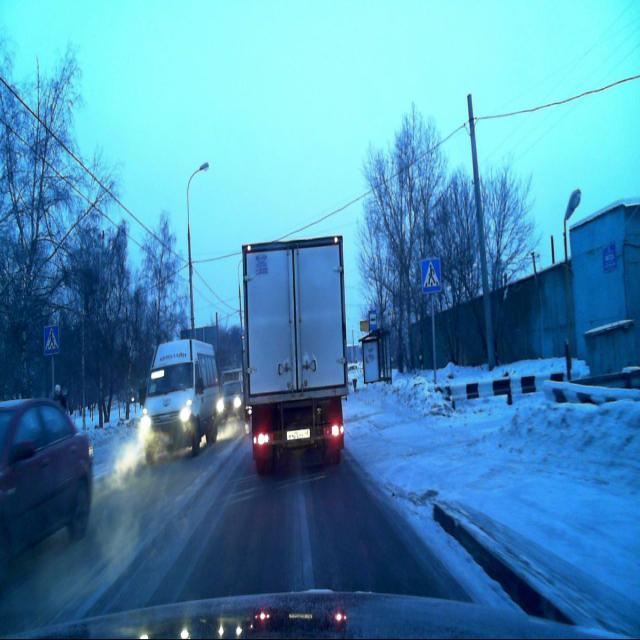object: (432, 297, 437, 386)
road sign: (420, 257, 440, 294), (42, 322, 60, 356), (368, 309, 378, 332)
